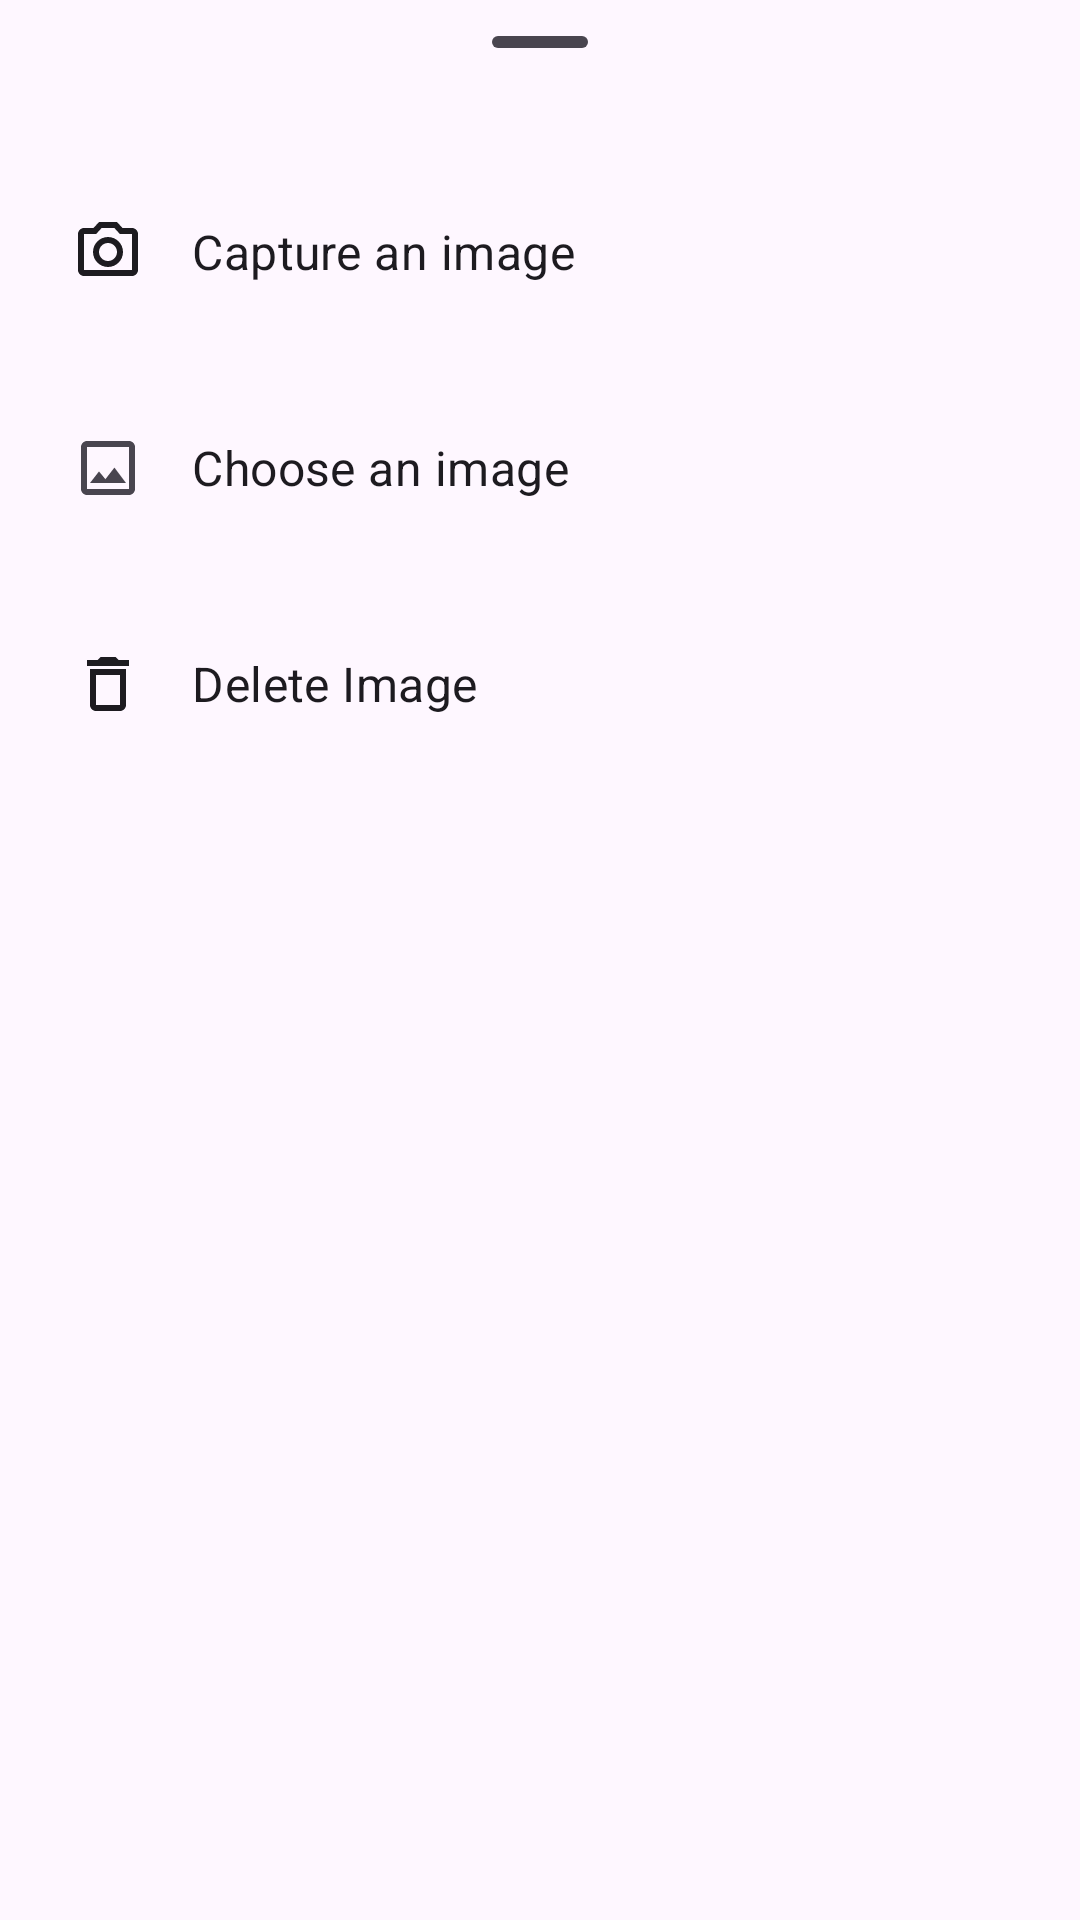

Icons on this 1080x1920 Android screen, each with its box as (x1, y1, x2, y2):
camera: (78, 222, 138, 276)
